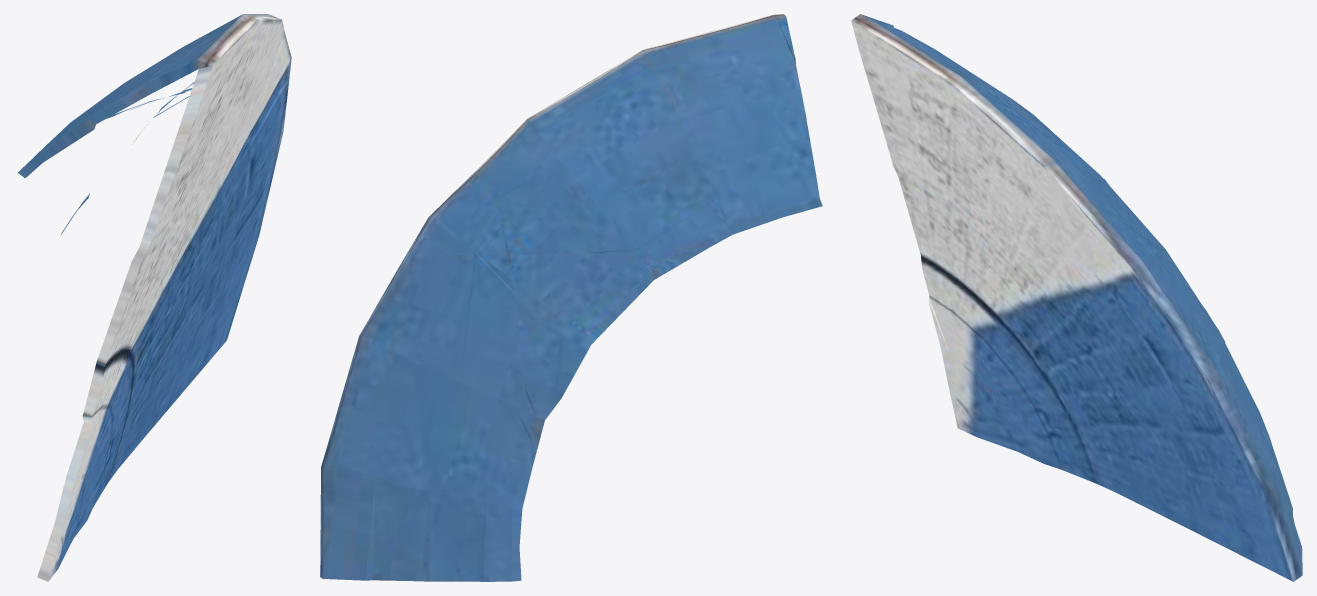
File: congresso_tile_46.glb
3 renders of one model, left to right at view 1: azimuth 30°, elevation 25°; view 2: azimuth 150°, elevation 25°; view 3: azimuth 270°, elevation 25°, orthographic. The views are drawn at different scales.
Bounding box in the file's own units: 24.41 × 30.24 × 27.41.
1 material, 1 textured.
